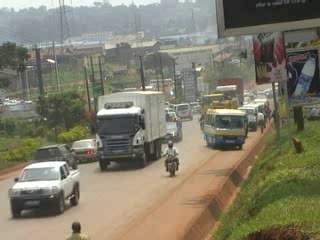Car: (34, 141, 80, 173), (70, 136, 102, 163), (164, 120, 184, 142), (166, 109, 182, 126), (190, 99, 203, 115)
Motorcycle: (161, 141, 182, 177)
